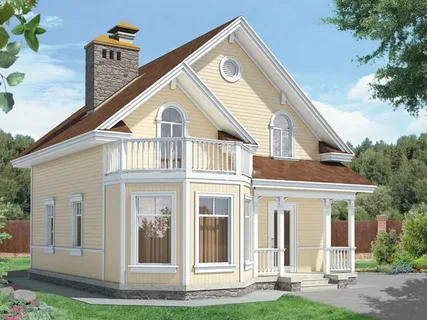private_hause: (44, 35, 354, 276)
